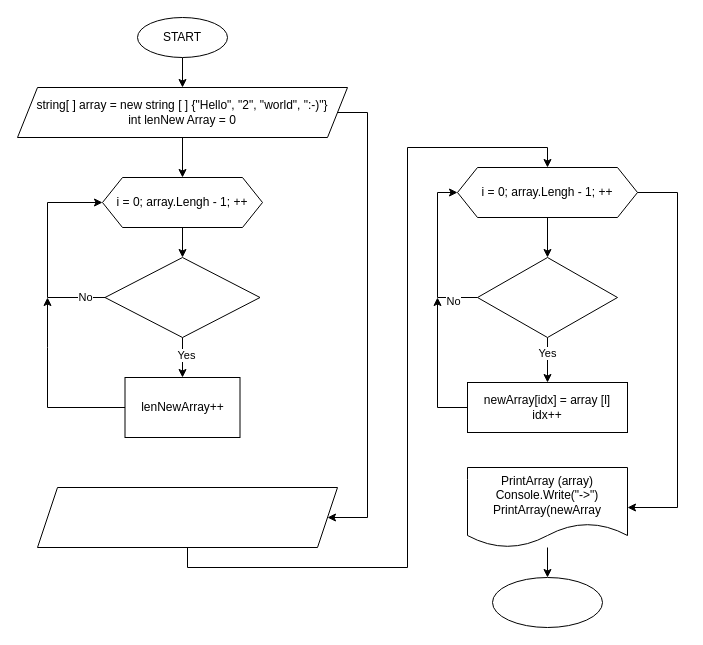
Some shapes in this 703 by 645 pixel diagram are drawn without their labels. Here are the shapes that lost their labels. From the top down, the centre of each, then its label:
At (182,297): "array [l].Lenth <=3".
At (547,297): "array [l].Lenth <= 3".
At (187,517): "string [ ] newArray = new string [lenNewArray] int idx = 0;".
At (547,602): "END".
